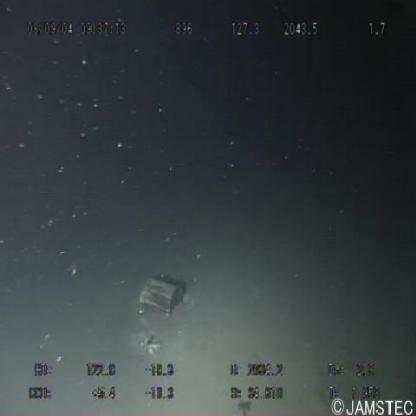Rác: (140, 280, 188, 322)
